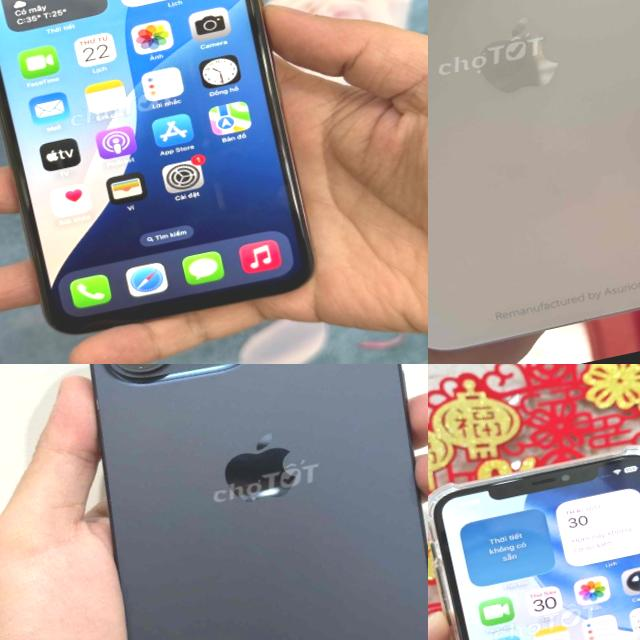gen_11: (0, 0, 343, 356), (428, 429, 640, 640)
gen_15: (31, 364, 428, 640), (428, 0, 640, 364)
scratch: (272, 132, 311, 222), (252, 35, 284, 100)
